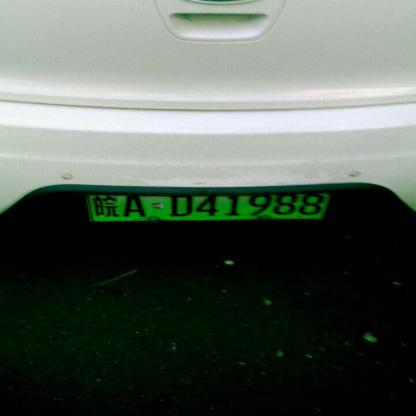lp: (87, 194, 331, 222)
